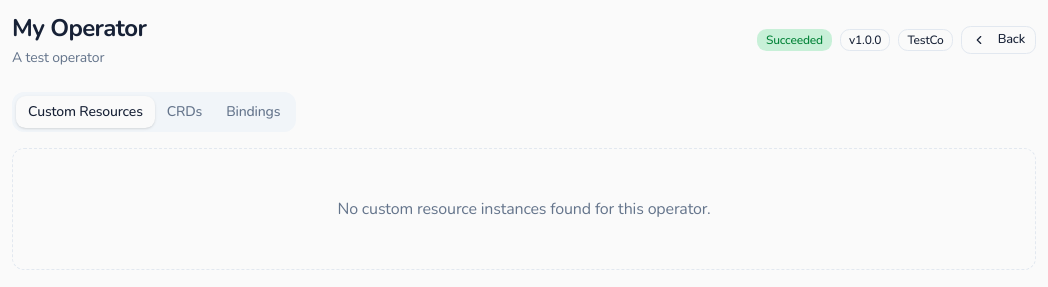
Test case: OperatorDetailClient › shows empty bindings message when no components linked
Expected: the heading "My Operator" is shown, [12, 12, 146, 44]
Click the Bindings tab
Click the tab "Bindings" at (253, 112), box [214, 96, 292, 128]
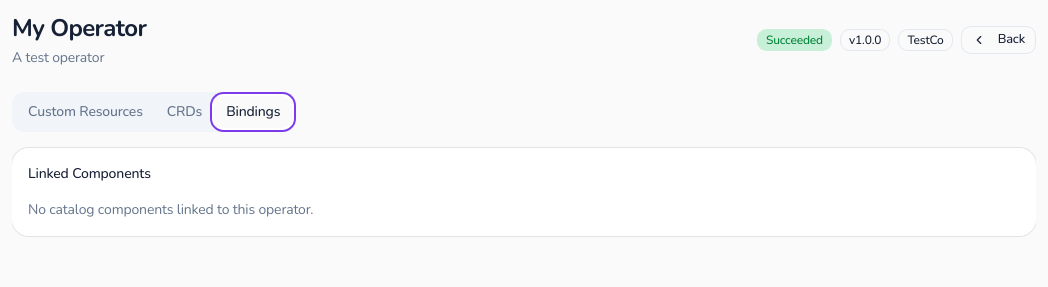
Expected: the text "No catalog components linked to this operator." is shown, [28, 200, 313, 219]
